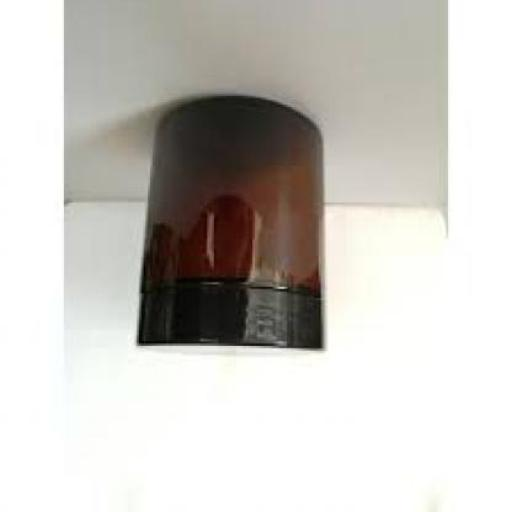glass: (137, 96, 321, 300)
plastic: (134, 284, 321, 357)
